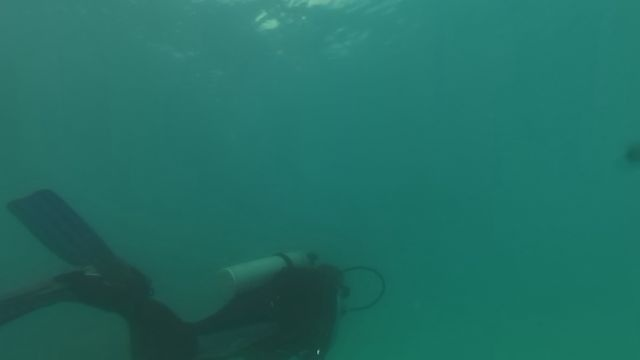Diver: (1, 170, 384, 358)
